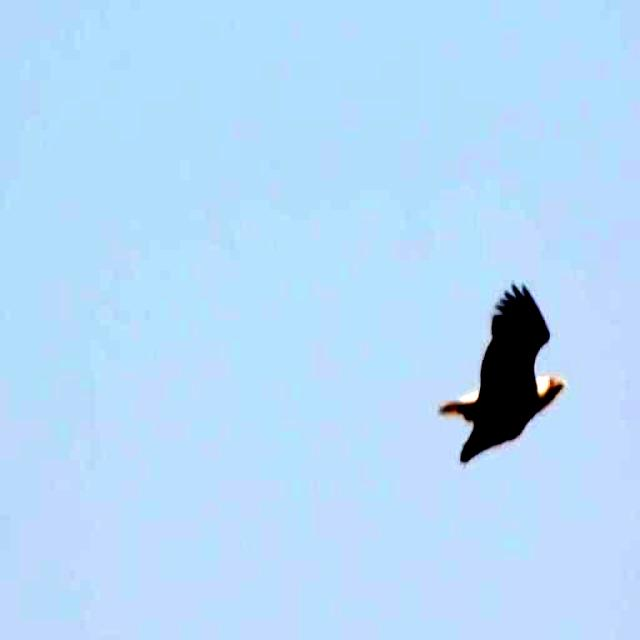airplane: (432, 259, 569, 469)
